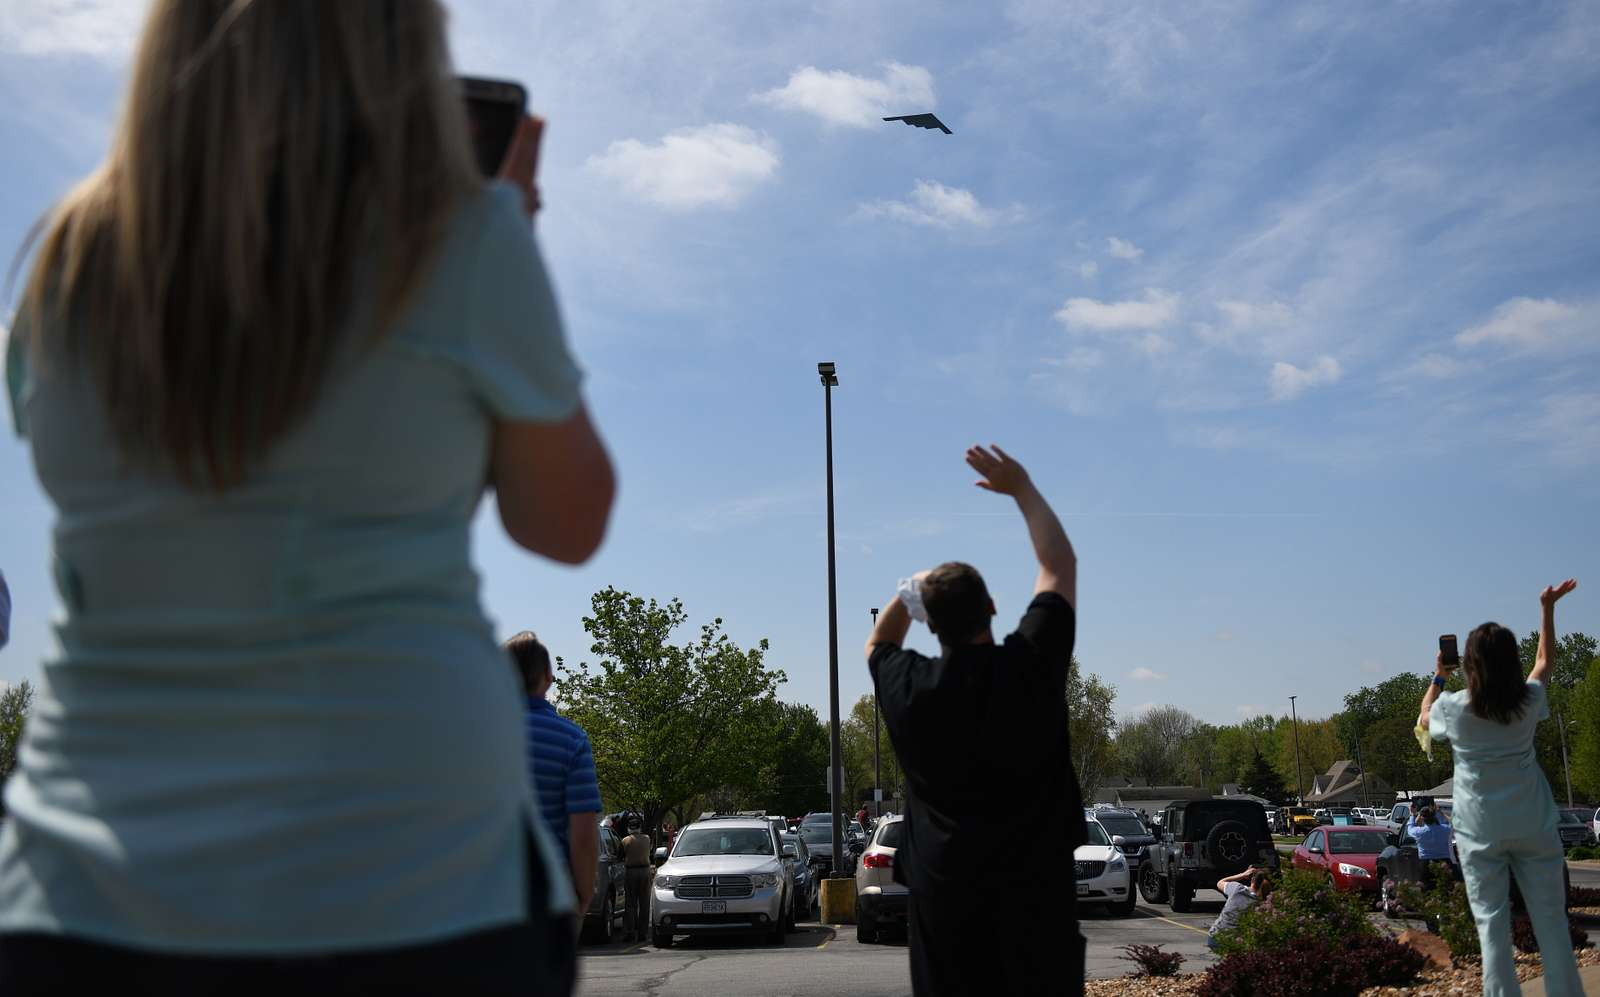B2: (881, 113, 954, 136)
